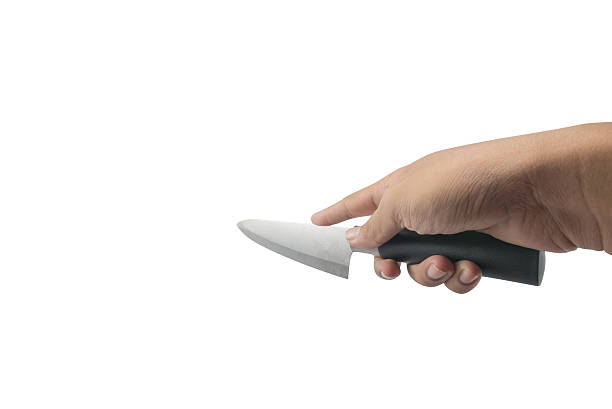knife: (234, 217, 548, 290)
